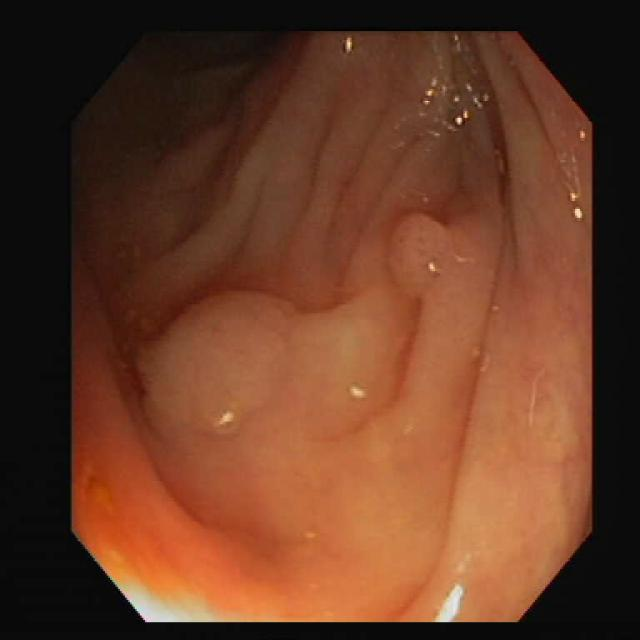tumor: (138, 293, 292, 436), (388, 202, 462, 291)
